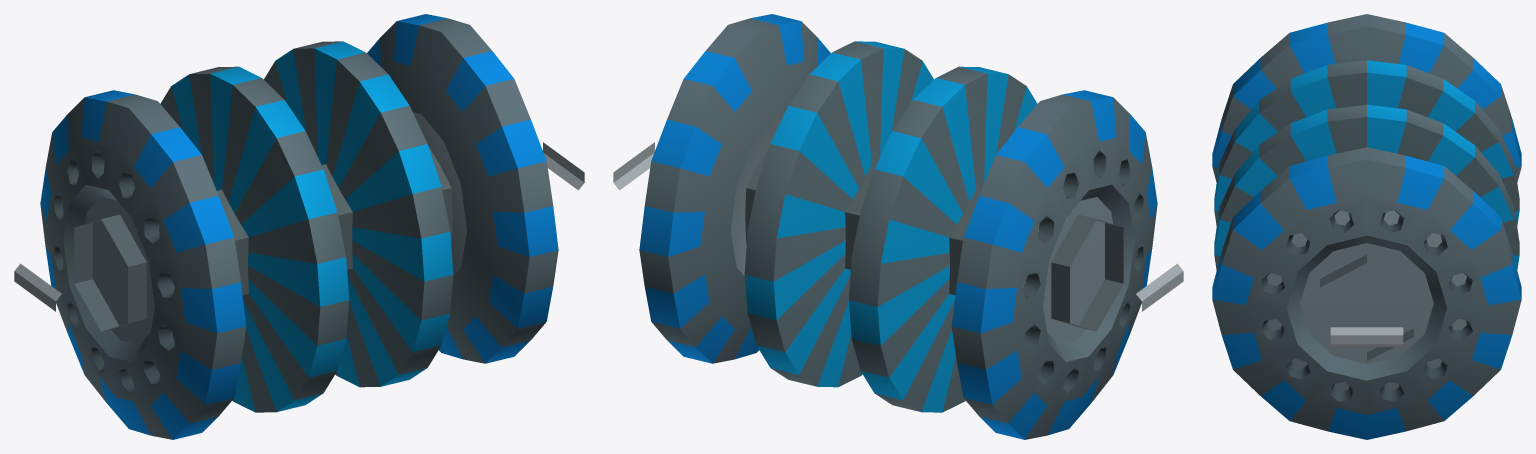
The model's file is Generator_rotor_001.fbx.
3 views of the same model, side by side, from view 1: azimuth 30°, elevation 25°; view 2: azimuth 150°, elevation 25°; view 3: azimuth 270°, elevation 25° (orthographic). The views are drawn at different scales.
Visible parts, largest first — view 1: Generator_rotor_001; view 2: Generator_rotor_001; view 3: Generator_rotor_001.
Boxes of the visible parts, left/top/right/bottom form: Generator_rotor_001: left=14, top=14, right=584, bottom=439; Generator_rotor_001: left=613, top=14, right=1183, bottom=439; Generator_rotor_001: left=1212, top=14, right=1521, bottom=439.
Bounding box in the file's own units: 359 × 209 × 209.
